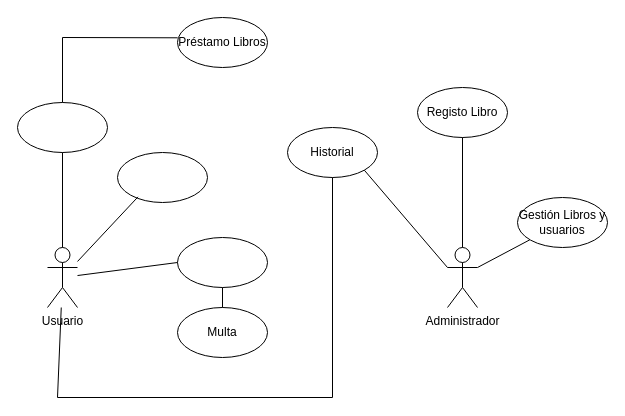
Some shapes in this 625 by 416 pixel diagram are drawn without their labels. Here are the shapes that lost their labels. From the top down, the box of each, then its label:
(16, 102, 108, 152): Registro Usuario
(116, 152, 208, 202): Busqueda Libros
(176, 236, 268, 288): Devolución Libros
